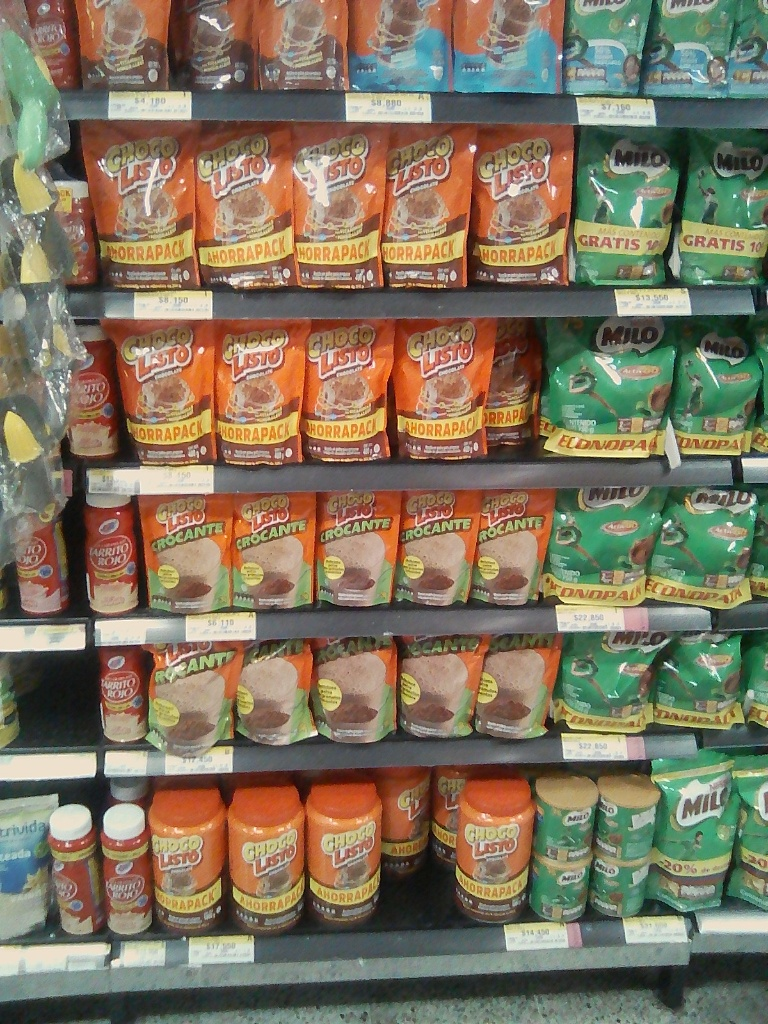COL0170102DYP25000: (466, 489, 554, 609)
COL0170102DYP50000: (477, 633, 563, 737)
COL0170103DYP20000: (77, 1, 171, 87)
COL0170103DYP40000: (467, 121, 575, 286)
COL0170103TRR00100: (451, 762, 533, 923)
COL0170203DYP50000: (665, 315, 760, 460)
COL0170203LAT20000: (599, 771, 656, 859)
COL0170205DYP20000: (556, 0, 649, 99)
